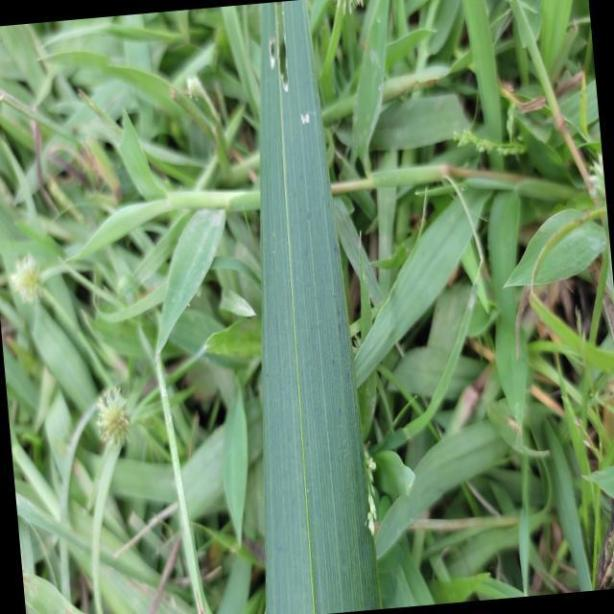Boron: (252, 3, 379, 614)
